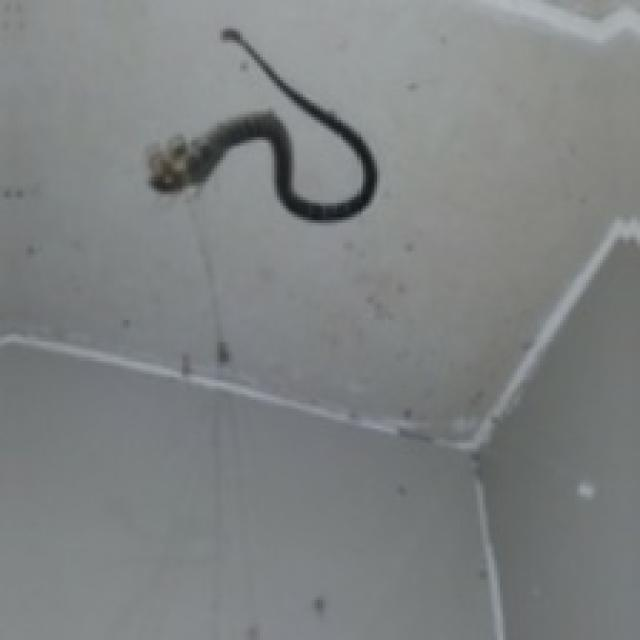gunthers philippine shrub snake: (149, 29, 374, 217)
